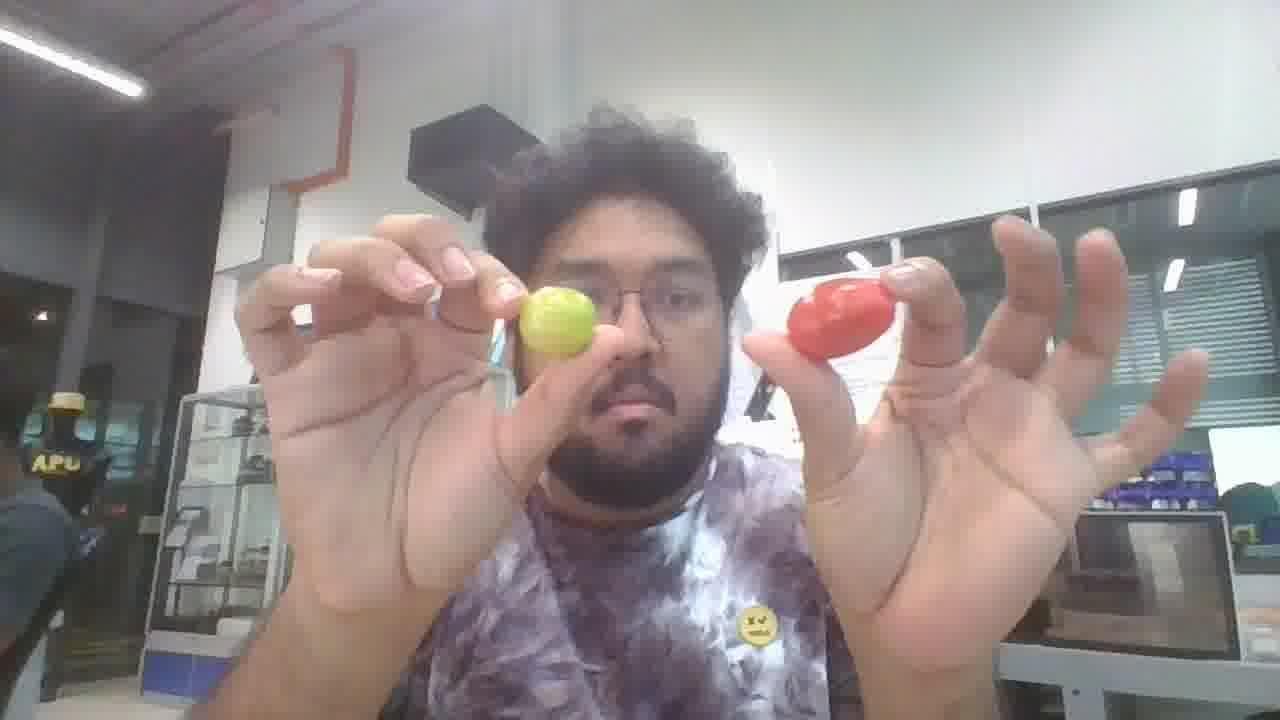green_cherry_tomato: (519, 286, 596, 358)
red_cherry_tomato: (787, 278, 894, 360)
